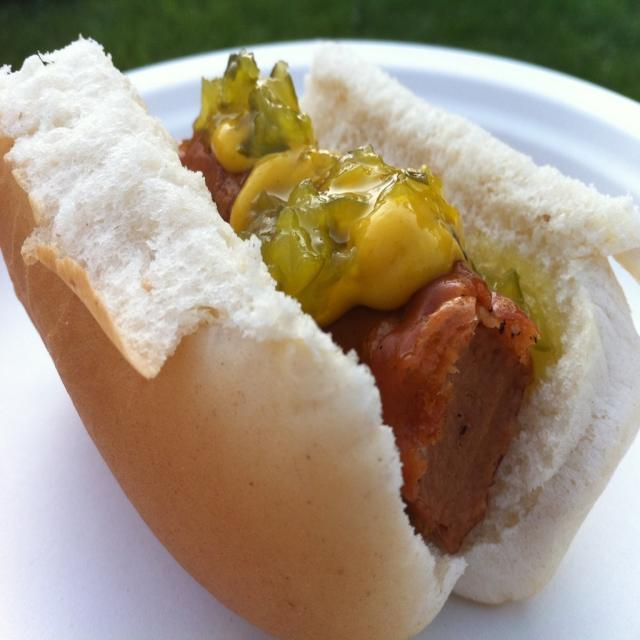Hot dog: (0, 30, 639, 639)
